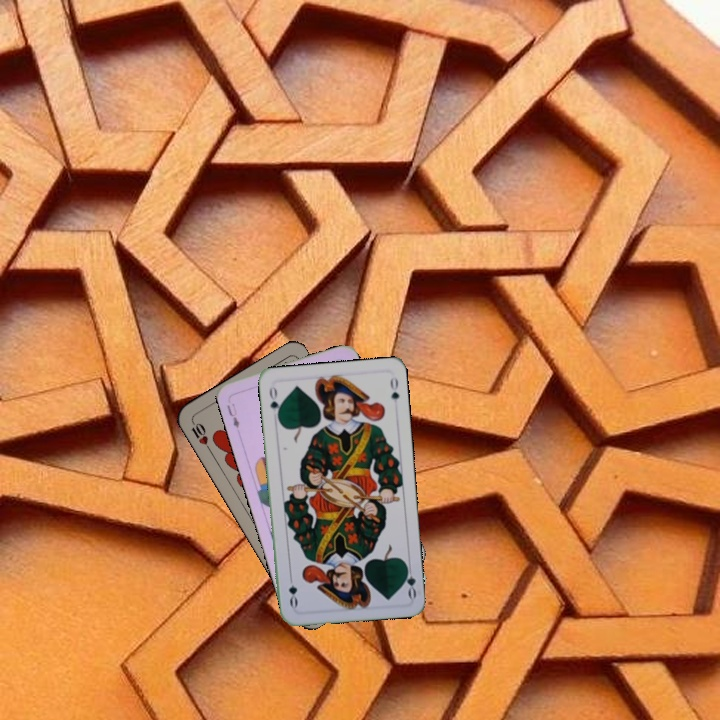EU: (223, 399, 242, 431)
GO: (400, 560, 419, 600), (265, 382, 283, 422)
H10: (187, 417, 213, 454)
